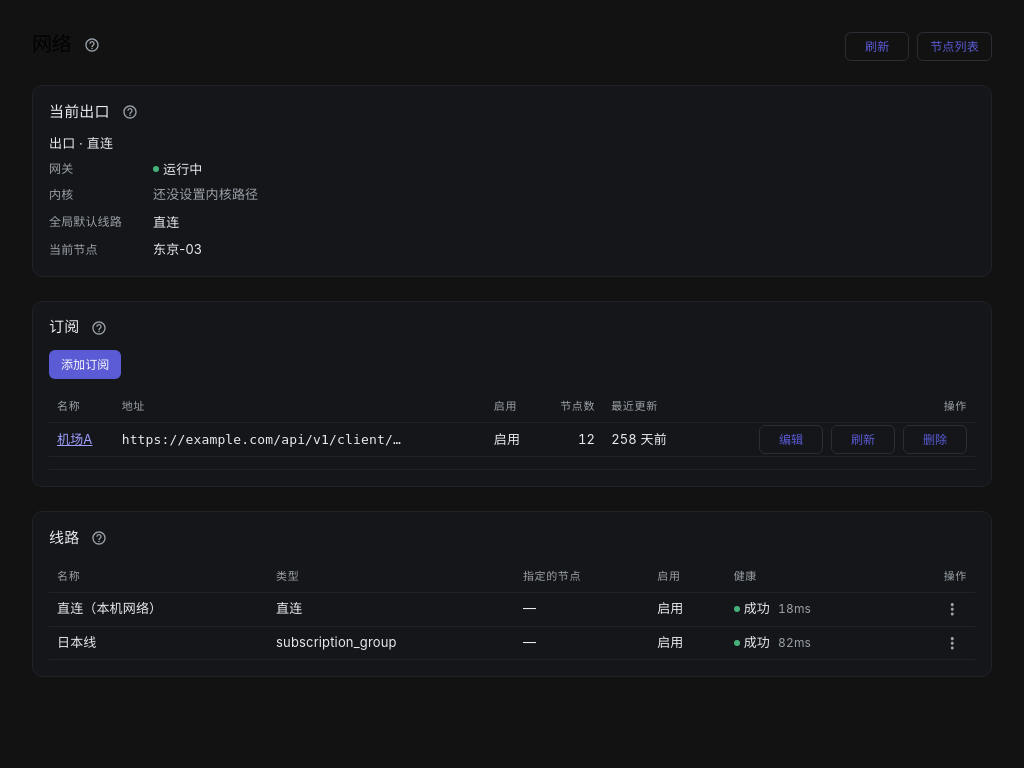
Test case: ⑪ /network 订阅写界面：点了真的调命令，并且显示后端返回的对象 › 删除某一行：**先弹二次确认**（确认之前一条命令都不发）→ 确认后 subscription_delete({id}) 并重取列表
The width and height of the screenshot is (1024, 768).
Step 1. Click the button with test id "network-subscriptions-delete" → [935, 440], box [903,425,967,454]
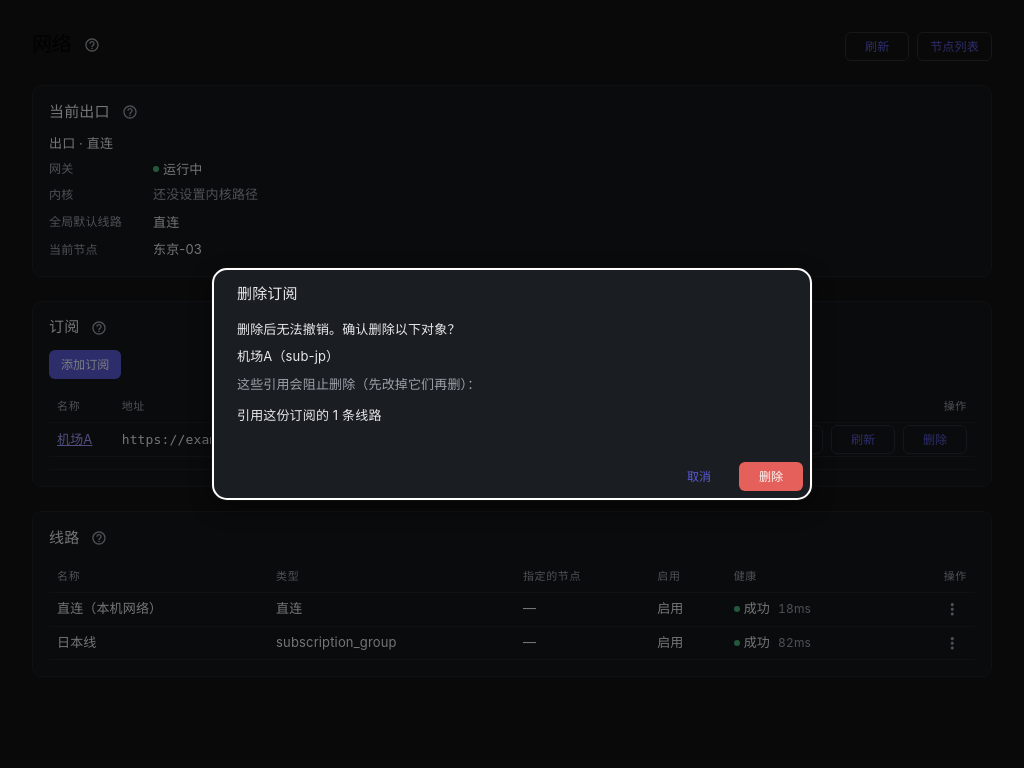
Check: the text with test id "network-subscriptions-delete-target" shows "机场A", box [237,348,339,364]
Check: the text with test id "network-subscriptions-delete-target" shows "sub-jp", box [237,348,339,364]
Step 2. Click the button with test id "network-subscriptions-delete-confirm" → [771, 476], box [739,462,803,491]
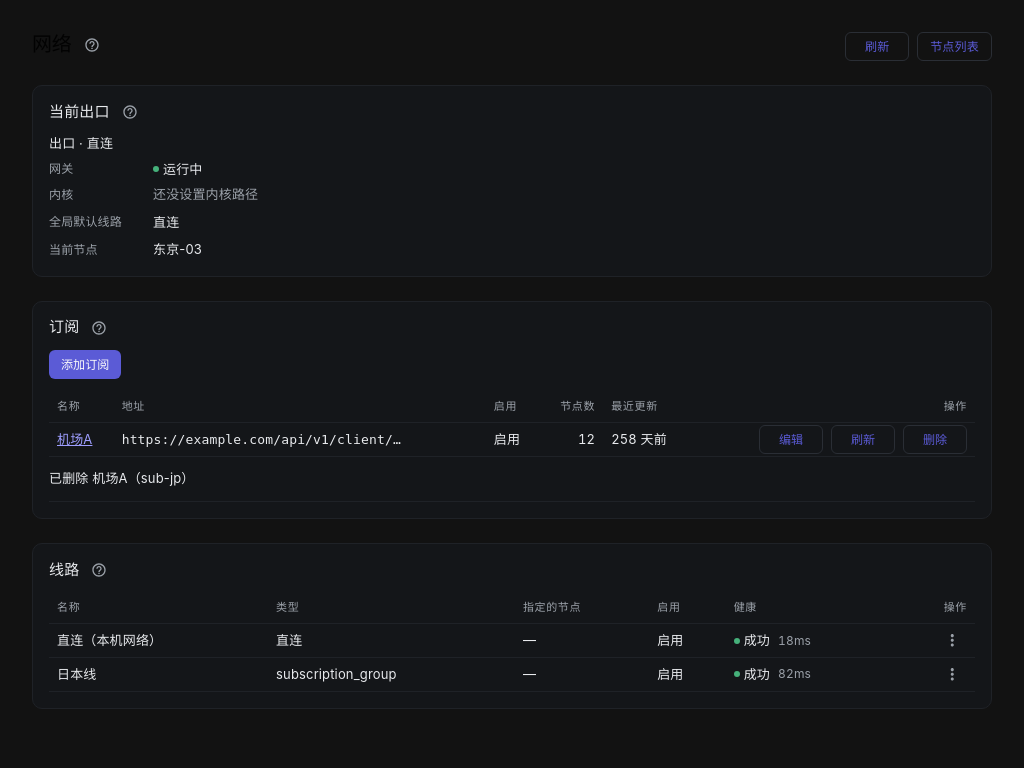
Check: the element with test id "network-subscriptions-delete-result" shows "已删除", box [49,470,194,486]
Check: the element with test id "network-subscriptions-delete-result" shows "机场A", box [49,470,194,486]
Check: the element with test id "network-subscriptions-delete-dialog" is gone
